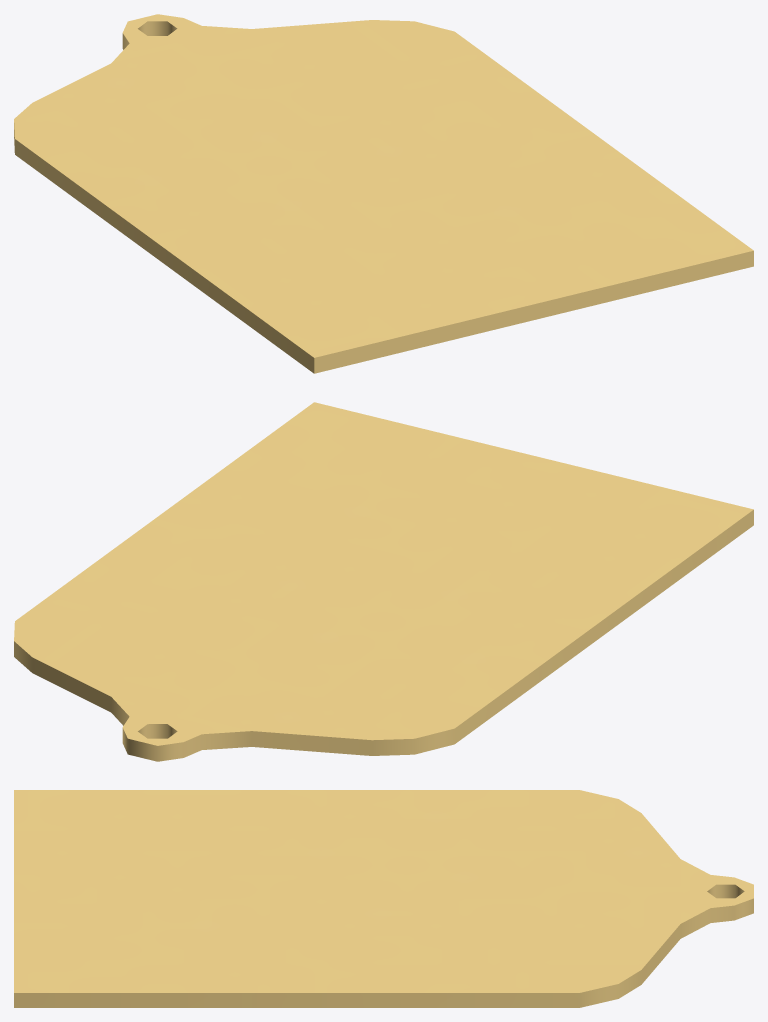
File: SM_Kitchen_ZhenBan.fbx
The picture shows the model from 3 angles, top to bottom: view 1: azimuth 30°, elevation 25°; view 2: azimuth 150°, elevation 25°; view 3: azimuth 270°, elevation 25°; orthographic projection. The views are drawn at different scales.
Visible parts, largest first — view 1: SM_Kitchen_ZhenBan; view 2: SM_Kitchen_ZhenBan; view 3: SM_Kitchen_ZhenBan.
Boxes of the visible parts, bbox=[...] form: SM_Kitchen_ZhenBan: bbox=[14, 14, 753, 373]; SM_Kitchen_ZhenBan: bbox=[14, 402, 753, 761]; SM_Kitchen_ZhenBan: bbox=[14, 790, 753, 1007].
Bounding box in the file's own units: 0.2201 × 0.00759 × 0.3393.
